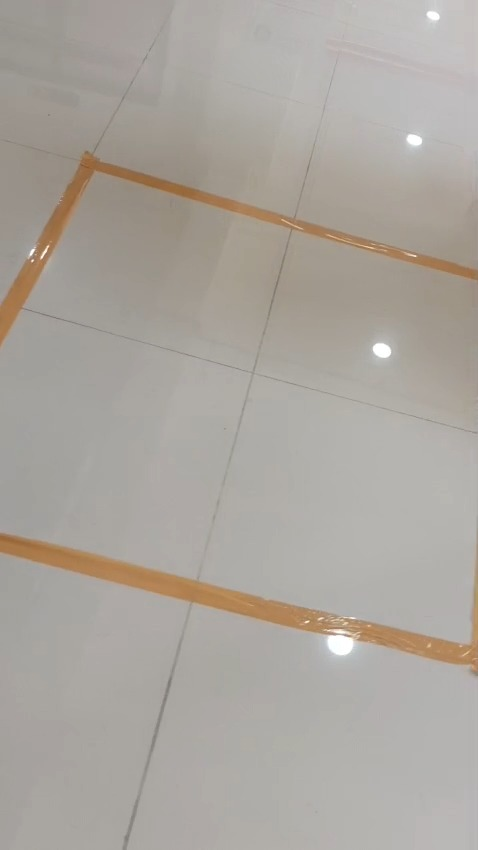floor marking: (0, 534, 477, 671), (0, 152, 295, 345), (303, 224, 472, 276), (55, 232, 56, 233)
